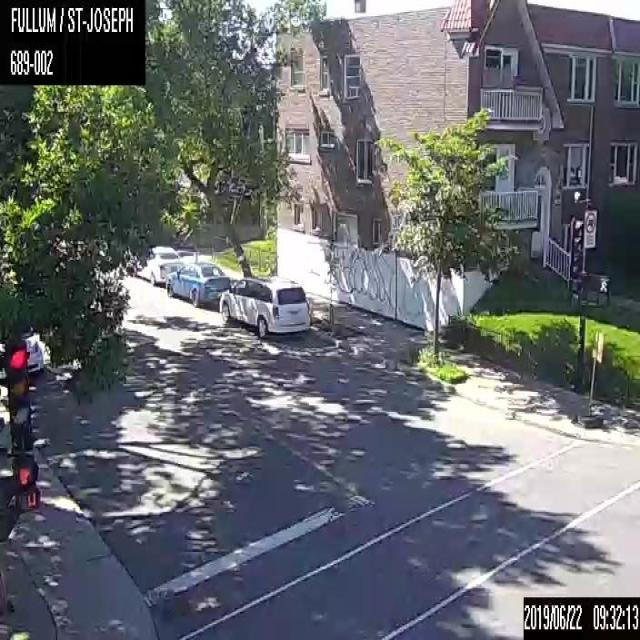construction: (576, 328, 604, 427)
vehicle: (217, 275, 314, 337), (164, 260, 230, 306), (126, 246, 182, 286), (0, 333, 44, 376)
